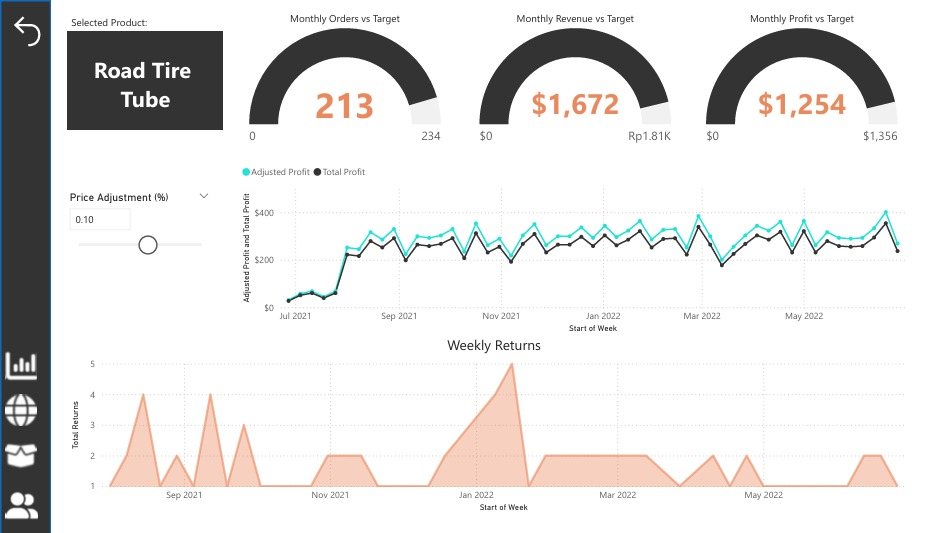

What the dashboard file says about the page in this screenshot:
{"tool":"powerbi","page":{"name":"Product Detail","canvas":[1280,720],"ordinal":3},"visuals":[{"type":"gauge","title":"Monthly Orders vs Target","fields":{"Y":["Measure Table.Total Orders"],"MaxValue":["Measure Table.Order Target"]},"box":[320,15,288.3,186.7],"z":0},{"type":"gauge","title":"Monthly Revenue vs Target","fields":{"Y":["Measure Table.Total Revenue"],"MaxValue":["Measure Table.Revenue Target"]},"box":[621.7,15,305,186.7],"z":1000},{"type":"actionButton","box":[3.3,467.1,57.1,49.8],"z":1000,"group":"g1"},{"type":"lineChart","fields":{"Category":["Calendar Lookup.Date Hierarchy.Start of Week"],"Y":["Measure Table.Adjusted Profit","Measure Table.Total Profit"]},"box":[320.5,210.7,919,241.5],"z":2000},{"type":"actionButton","box":[1.8,527.1,57.1,49.8],"z":2000,"group":"g1"},{"type":"areaChart","title":"Weekly Returns","fields":{"Category":["Calendar Lookup.Date Hierarchy.Start of Week"],"Y":["Measure Table.Total Returns"]},"box":[90,450,1150,242.5],"z":3000},{"type":"actionButton","box":[3.3,654.4,57.1,51.2],"z":3000,"group":"g1"},{"type":"card","fields":{"Values":["Min(Product Lookup.ProductName)"]},"box":[90,41.7,210,133.3],"z":4000},{"type":"textbox","box":[90,15,155,38.3],"z":5000},{"type":"actionButton","box":[1.8,588.6,57.1,49.8],"z":5000,"group":"g1"},{"type":"shape","box":[0,0,67.3,720],"z":6000},{"type":"group","id":"g1","title":"Navigation Buttons","box":[1.8,467.1,59.7,238.8],"z":7000},{"type":"actionButton","box":[10,15,51.7,51.7],"z":8000},{"type":"gauge","title":"Monthly Profit vs Target","fields":{"Y":["Measure Table.Total Profit"],"MaxValue":["Measure Table.Profit Target"]},"box":[921.7,15,316.7,186.7],"z":9000},{"type":"slicer","fields":{"Values":["Price Adjustment (%).Price Adjustment (%)"]},"box":[80.5,251.7,212.2,199],"z":10000}]}

Visuals, with their boxes on the page's 1280x720 design canvas (x1, y1, x2, y2). These are canvas units, not pixel positions in the 926x533 screenshot, which may show the page scaled, cropped or inside an application window:
"Monthly Orders vs Target" gauge: l=320, t=15, r=608, b=202
"Monthly Revenue vs Target" gauge: l=622, t=15, r=927, b=202
actionButton: l=3, t=467, r=60, b=517
lineChart - Calendar Lookup.Date Hierarchy.Start of Week x Measure Table.Adjusted Profit: l=320, t=211, r=1240, b=452
actionButton: l=2, t=527, r=59, b=577
"Weekly Returns" areaChart: l=90, t=450, r=1240, b=692
actionButton: l=3, t=654, r=60, b=706
card - Min(Product Lookup.ProductName): l=90, t=42, r=300, b=175
textbox: l=90, t=15, r=245, b=53
actionButton: l=2, t=589, r=59, b=638
shape: l=0, t=0, r=67, b=720
"Navigation Buttons" group: l=2, t=467, r=62, b=706
actionButton: l=10, t=15, r=62, b=67
"Monthly Profit vs Target" gauge: l=922, t=15, r=1238, b=202
slicer - Price Adjustment (%).Price Adjustment (%): l=80, t=252, r=293, b=451
